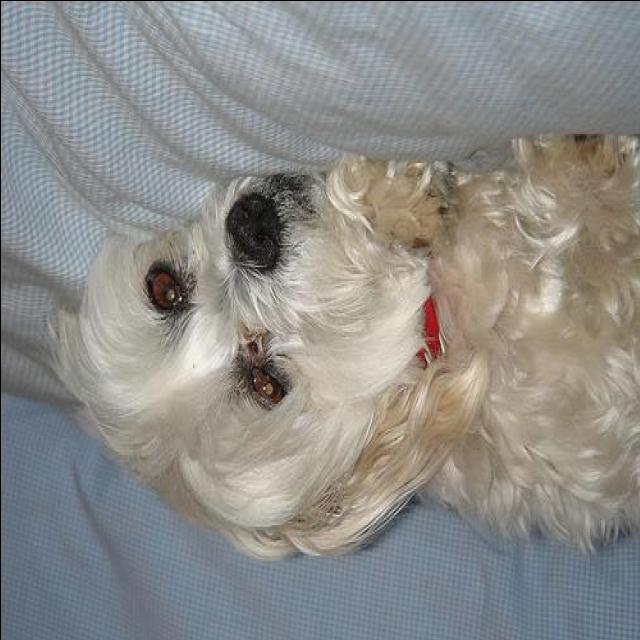maltese_dog: (48, 130, 640, 560)
